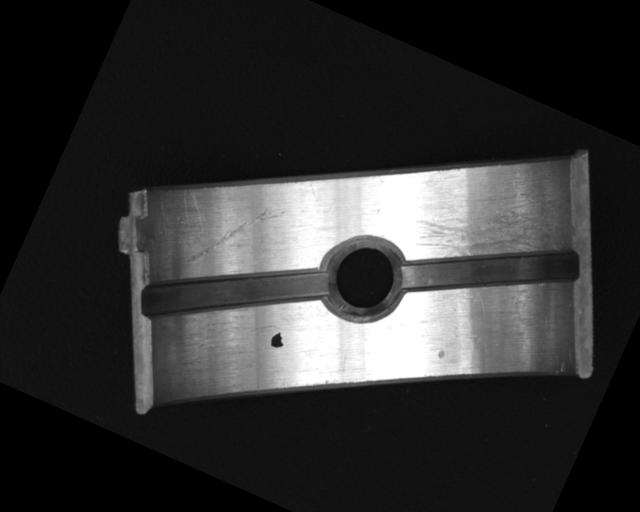blot: (268, 329, 289, 351)
bruise: (436, 348, 447, 360)
gap: (133, 207, 333, 379), (395, 191, 585, 351)
hole: (311, 224, 415, 331)
nick: (184, 181, 287, 291)
scratch: (392, 142, 579, 301)
